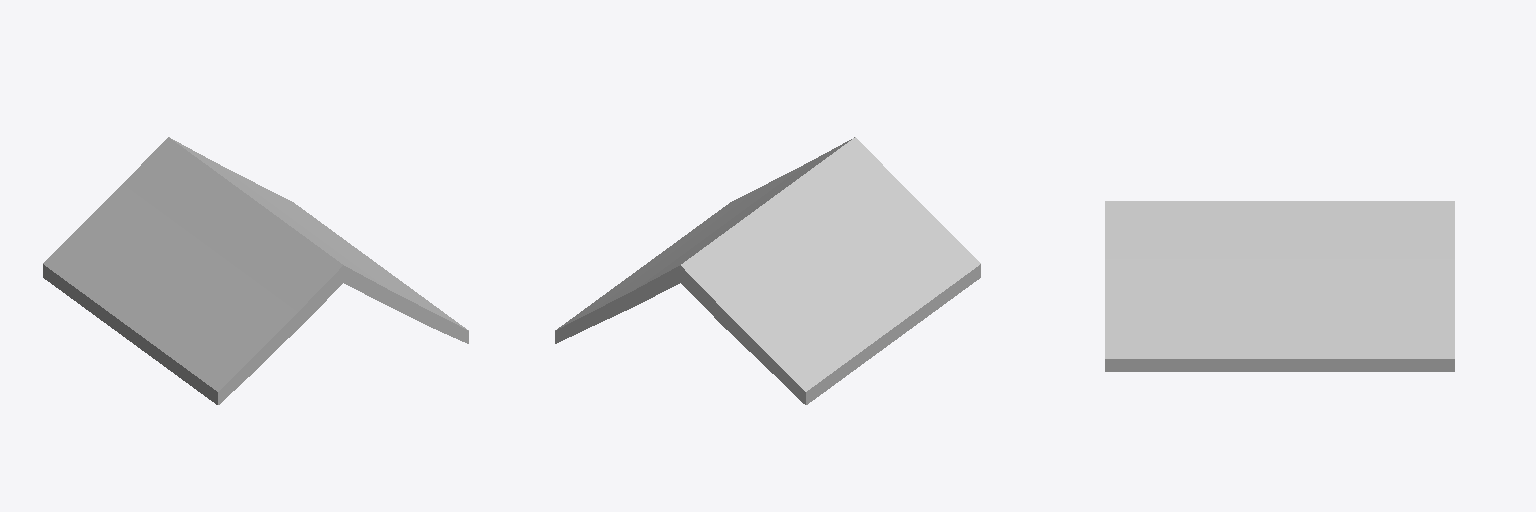
File: houseRoof_lowPoly.obj
3 renders of one model, left to right at view 1: azimuth 30°, elevation 25°; view 2: azimuth 150°, elevation 25°; view 3: azimuth 270°, elevation 25°, orthographic.
Parts seen in each view (by area): view 1: polySurface20 polySurface17 polySurface12 polySurface1 cabin_b:p; view 2: polySurface20 polySurface17 polySurface12 polySurface1 cabin_b:p; view 3: polySurface20 polySurface17 polySurface12 polySurface1 cabin_b:p.
Boxes of the visible parts, box(x1,y1,x2,y2) form: polySurface20 polySurface17 polySurface12 polySurface1 cabin_b:p: box(43, 137, 468, 404); polySurface20 polySurface17 polySurface12 polySurface1 cabin_b:p: box(555, 137, 980, 404); polySurface20 polySurface17 polySurface12 polySurface1 cabin_b:p: box(1105, 201, 1454, 371).
Bounding box in the file's own units: 13.76 × 5.76 × 16.64.